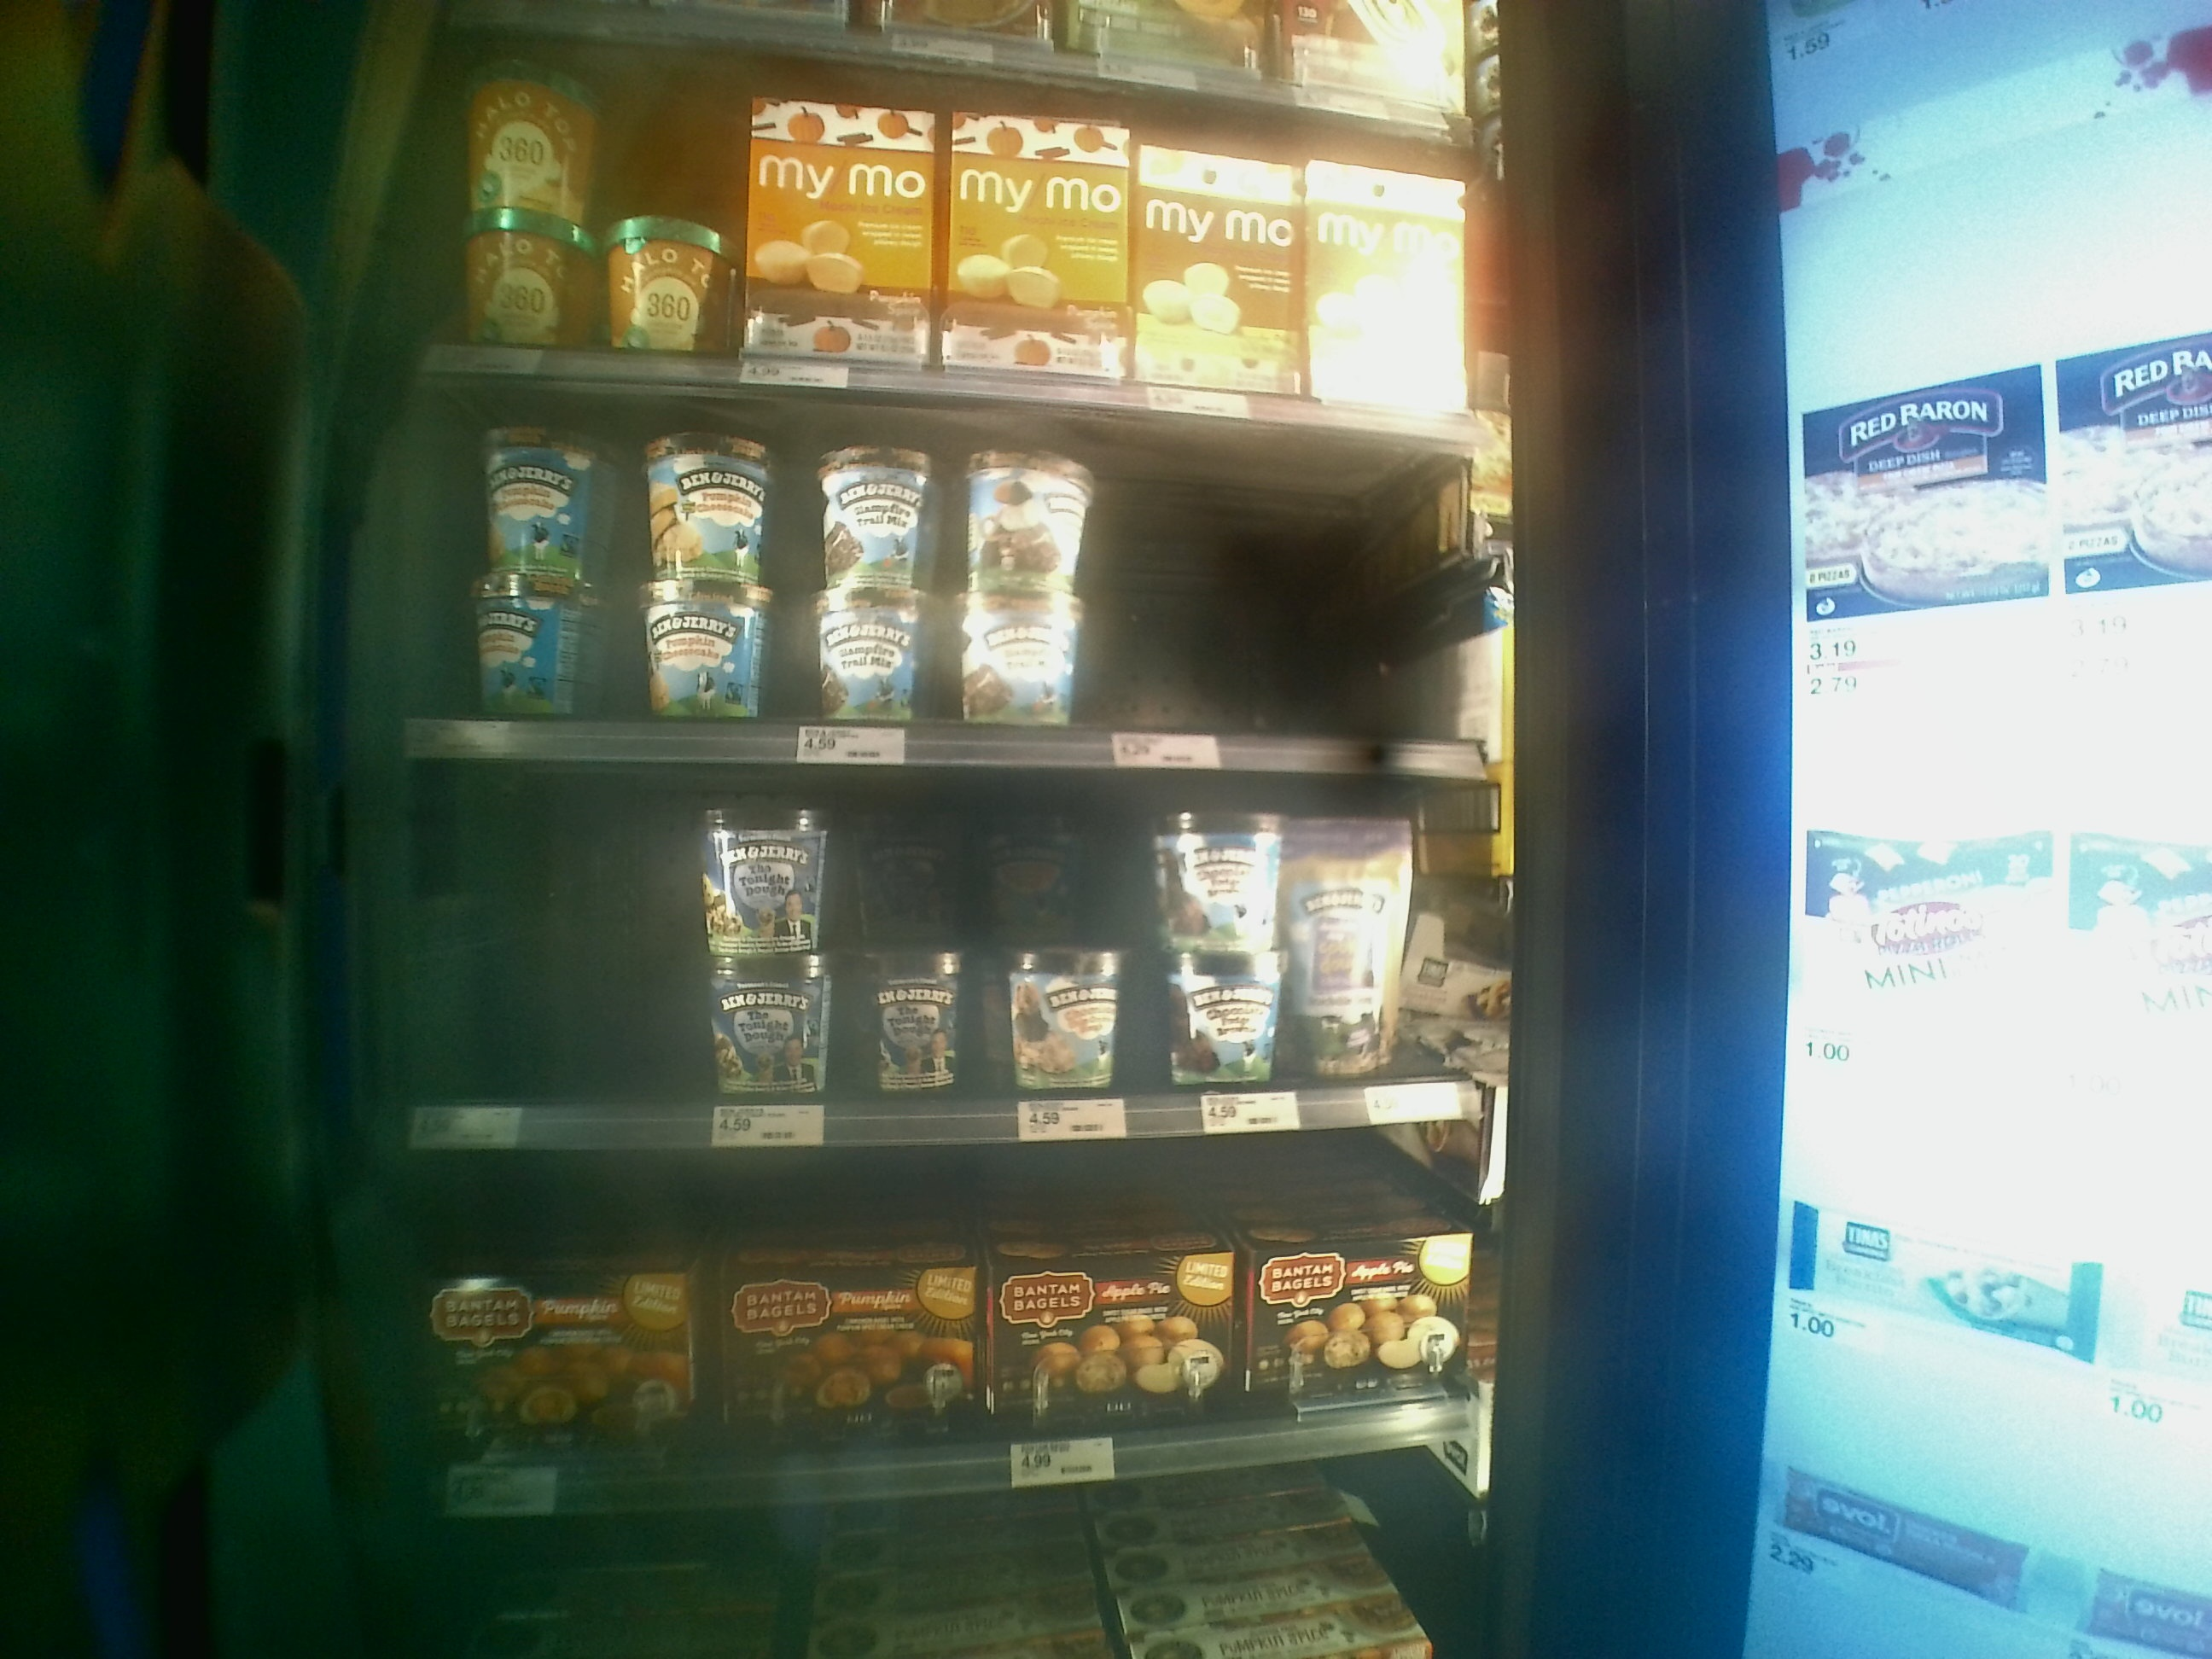shelf: (327, 359, 1531, 772), (303, 756, 1519, 1131), (303, 1126, 1517, 1452)
